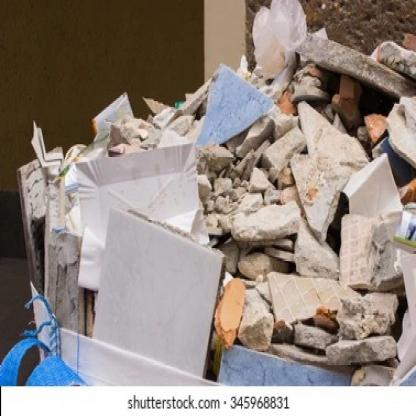brick: (21, 28, 415, 382)
